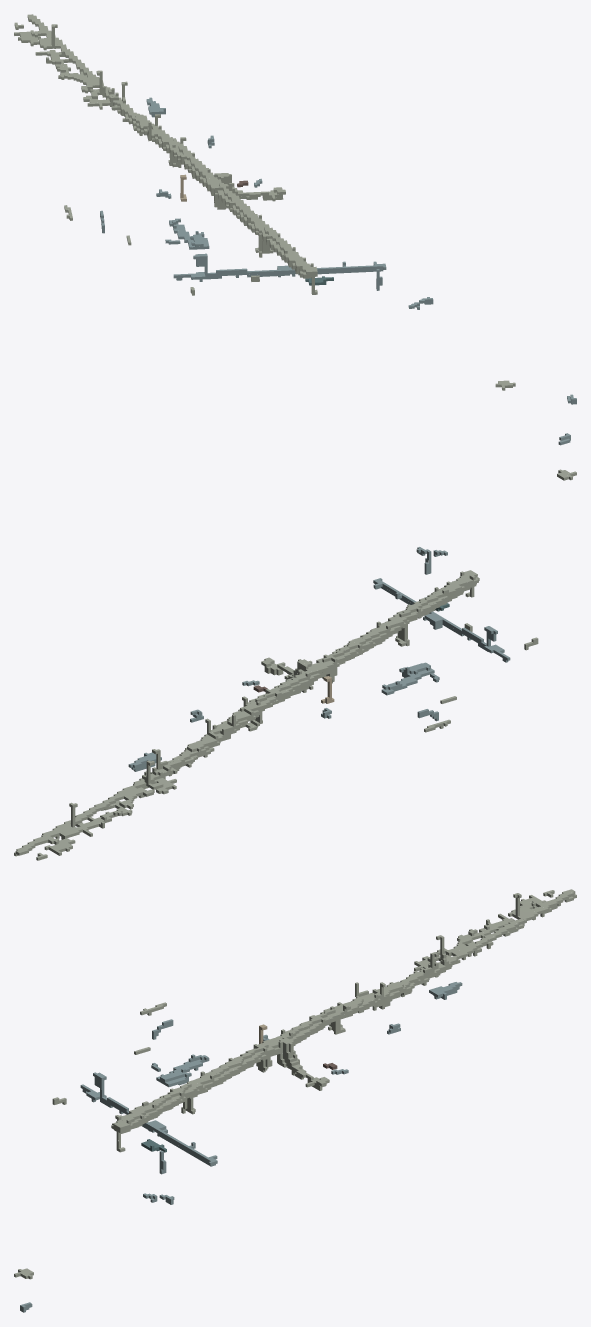
The picture shows the model from 3 angles, top to bottom: view 1: azimuth 30°, elevation 25°; view 2: azimuth 150°, elevation 25°; view 3: azimuth 330°, elevation 25°; orthographic projection. The views are drawn at different scales.
Visible parts, largest first — view 1: measured-industrial; view 2: measured-industrial; view 3: measured-industrial.
Boxes of the visible parts, left/top/right/bottom form: measured-industrial: left=14, top=14, right=576, bottom=404; measured-industrial: left=14, top=433, right=576, bottom=860; measured-industrial: left=14, top=889, right=576, bottom=1312.
Bounding box in the file's own units: 81.52 × 13.03 × 374.
